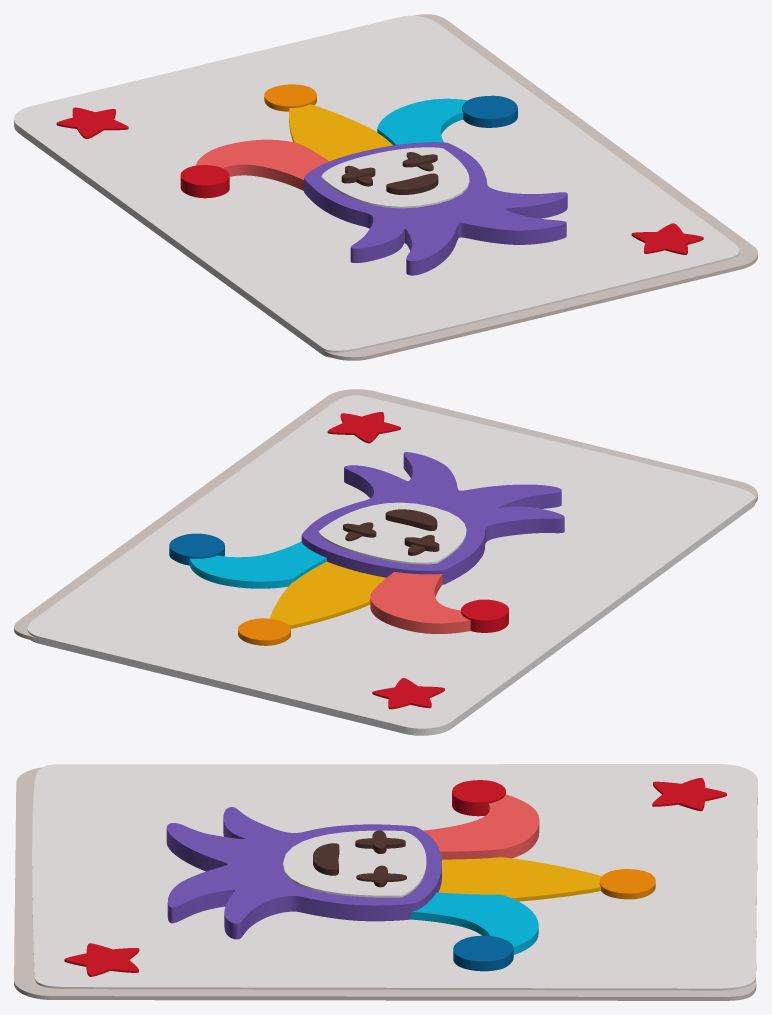
The model's file is emoji_u1f0cf.glb.
The picture shows the model from 3 angles, top to bottom: view 1: azimuth 30°, elevation 25°; view 2: azimuth 150°, elevation 25°; view 3: azimuth 270°, elevation 25°; orthographic projection. The views are drawn at different scales.
Parts seen in each view (by area): view 1: emoji_u1f0cf; view 2: emoji_u1f0cf; view 3: emoji_u1f0cf.
Boxes of the visible parts, x1,y1,x2,y2 form: emoji_u1f0cf: (14,14,757,360); emoji_u1f0cf: (14,389,757,735); emoji_u1f0cf: (14,764,757,1000).
Bounding box in the file's own units: 0.0251 × 0.0028 × 0.0342.
